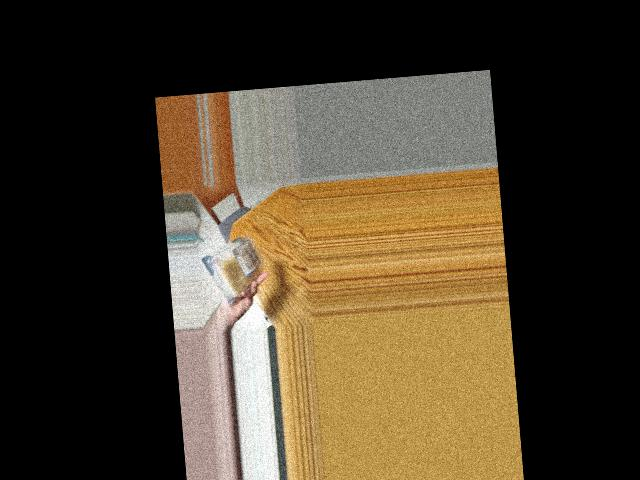cheese: (207, 230, 266, 302)
